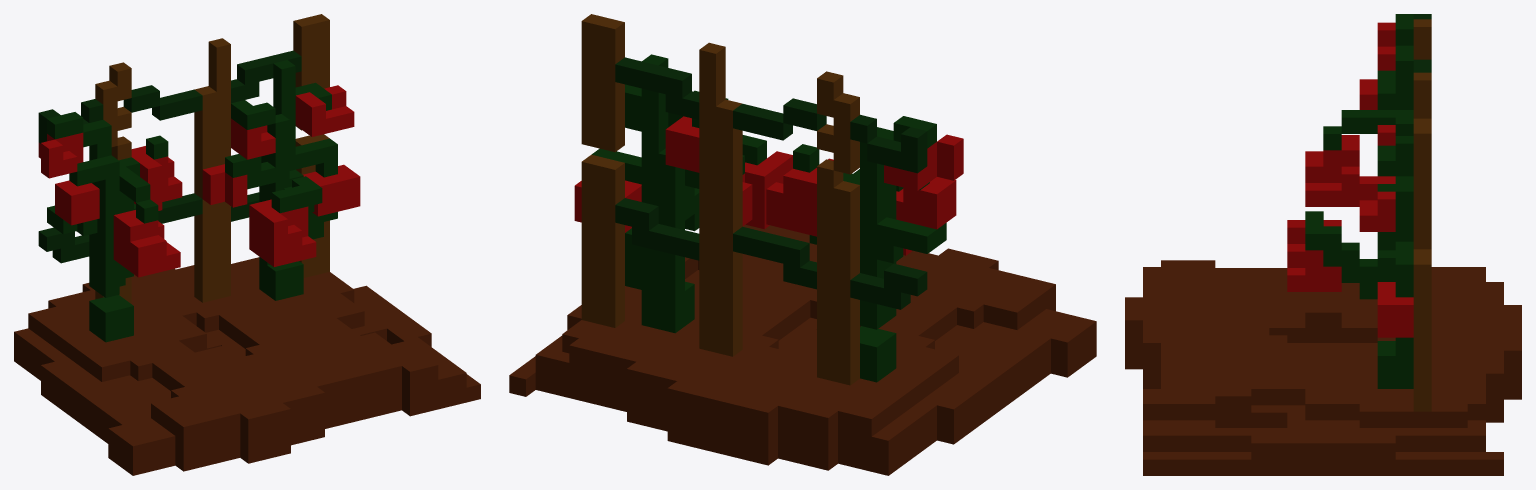
The model's file is Tomaten50.obj.
The picture shows the model from 3 angles, left to right: view 1: azimuth 30°, elevation 25°; view 2: azimuth 150°, elevation 25°; view 3: azimuth 270°, elevation 25°; orthographic projection. The views are drawn at different scales.
Bounding box in the file's own units: 2.4 × 2 × 2.2.
1 material, 1 textured.
